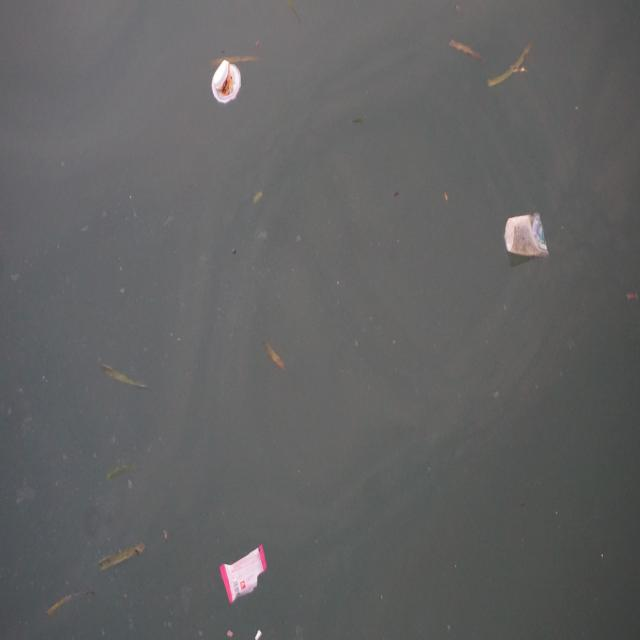Bungkus Makanan: (220, 540, 268, 608)
Bungkus Minuman: (501, 201, 555, 268), (208, 57, 245, 109)
